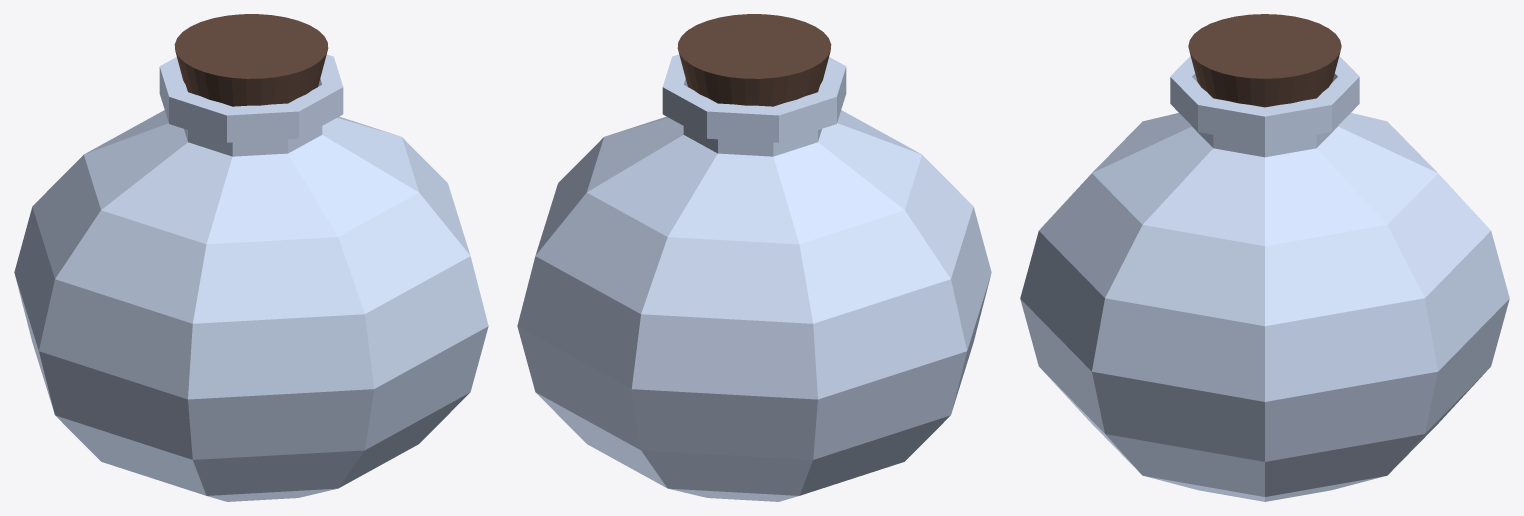
File: Portion.fbx
3 renders of one model, left to right at view 1: azimuth 30°, elevation 25°; view 2: azimuth 150°, elevation 25°; view 3: azimuth 270°, elevation 25°, orthographic.
Visible parts, largest first — view 1: Bottle, Potion_Cork; view 2: Bottle, Potion_Cork; view 3: Bottle, Potion_Cork.
Part boxes in pixels (<box>): Bottle: <box>14,54,488,501</box>; Potion_Cork: <box>174,14,328,106</box>; Bottle: <box>517,54,991,501</box>; Potion_Cork: <box>677,14,831,106</box>; Bottle: <box>1020,56,1509,501</box>; Potion_Cork: <box>1188,14,1341,107</box>.
Bounding box in the file's own units: 21.43 × 20.74 × 21.43.
